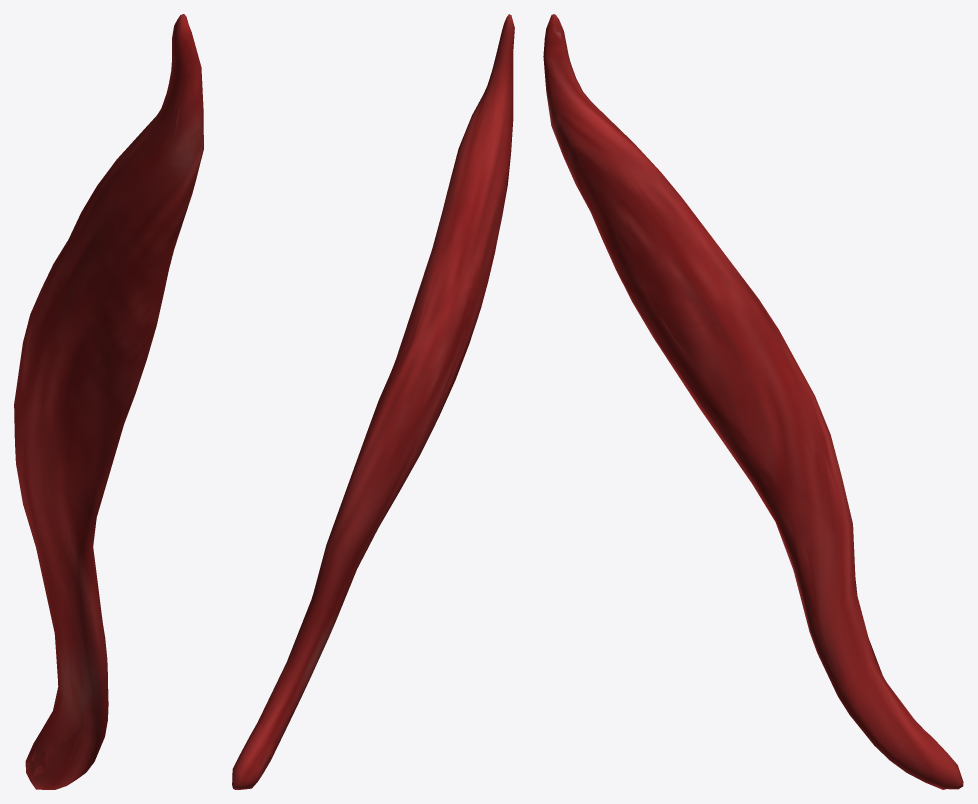
Rendered from L Biceps Brachii.fbx.
3 renders of one model, left to right at view 1: azimuth 30°, elevation 25°; view 2: azimuth 150°, elevation 25°; view 3: azimuth 270°, elevation 25°, orthographic. The views are drawn at different scales.
Visible parts, largest first — view 1: L Biceps Brachii, L Biceps Brachii low, L Biceps Brachii high; view 2: L Biceps Brachii, L Biceps Brachii low, L Biceps Brachii high; view 3: L Biceps Brachii, L Biceps Brachii low, L Biceps Brachii high.
Part boxes in pixels (x1,y1,x2,y2): L Biceps Brachii: (14, 14, 203, 789); L Biceps Brachii low: (14, 18, 201, 780); L Biceps Brachii high: (20, 16, 198, 781); L Biceps Brachii: (232, 14, 514, 789); L Biceps Brachii low: (233, 18, 514, 789); L Biceps Brachii high: (234, 22, 513, 785); L Biceps Brachii: (543, 14, 963, 789); L Biceps Brachii low: (543, 19, 960, 789); L Biceps Brachii high: (549, 18, 956, 787).
Bounding box in the file's own units: 1.31 × 6.85 × 3.57.
Materials: 1 (1 with a texture image).
